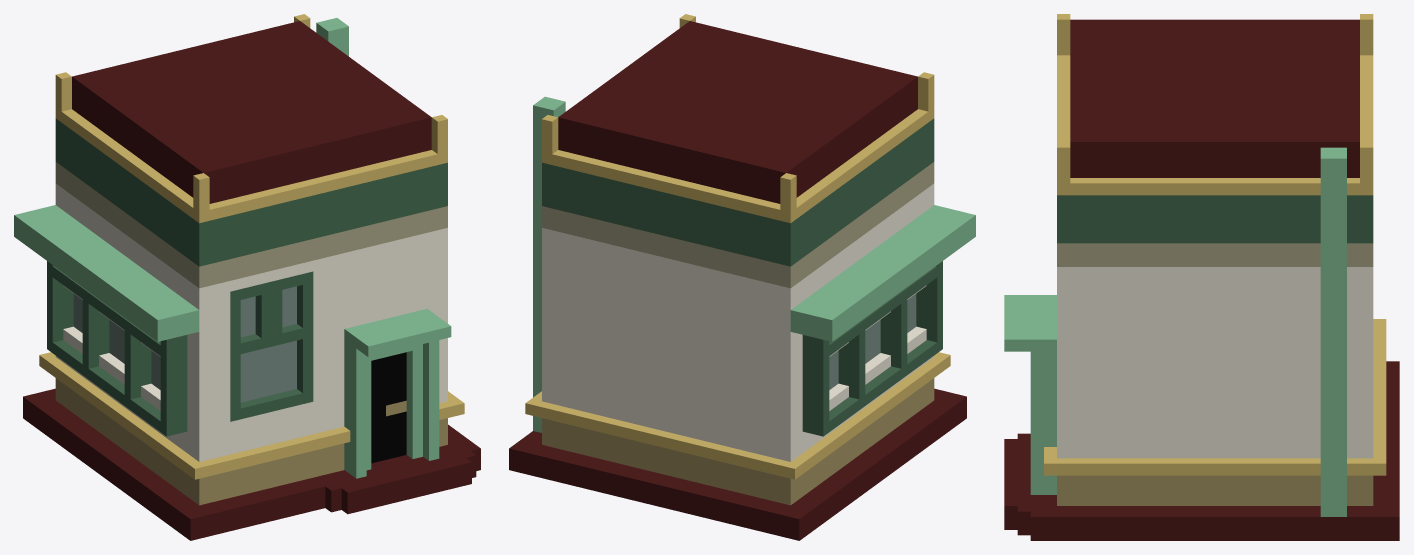
Rendered from tile_1_alone_nr.obj.
The picture shows the model from 3 angles, left to right: view 1: azimuth 30°, elevation 25°; view 2: azimuth 150°, elevation 25°; view 3: azimuth 270°, elevation 25°; orthographic projection. The views are drawn at different scales.
Size of the model in its own units: 3 by 3.2 by 3.
